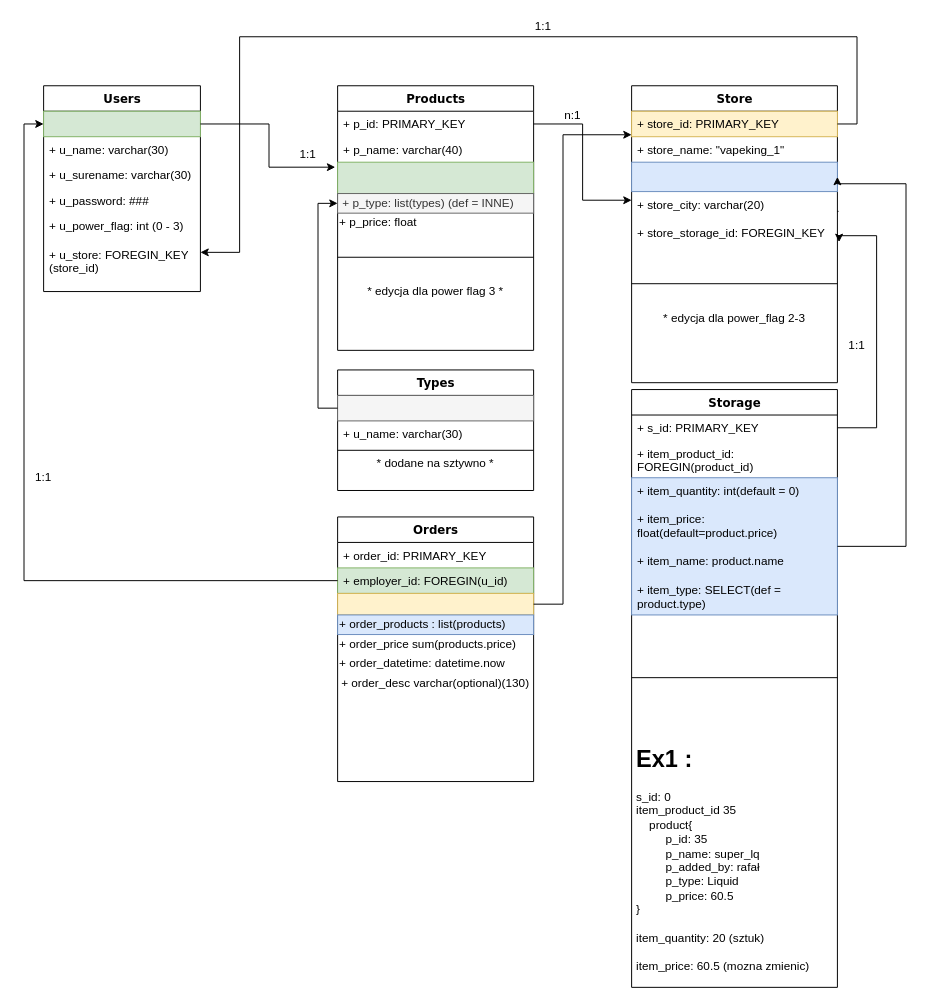
Image size: 931x1005. Some labels were removed from this diagram. The centre of each missing label's shape, as x and y in pixels:
"+ order_store: FOREGIN(store_id)" belongs at (x=435, y=603).
"+ p_added_by: (u_id)" belongs at (x=435, y=177).
"+ store_products: list(products)" belongs at (x=734, y=176).
"+ type_id: PRIMARY_KEY" belongs at (x=435, y=407).
"+ u_id: PRIMARY_KEY" belongs at (x=121, y=123).
